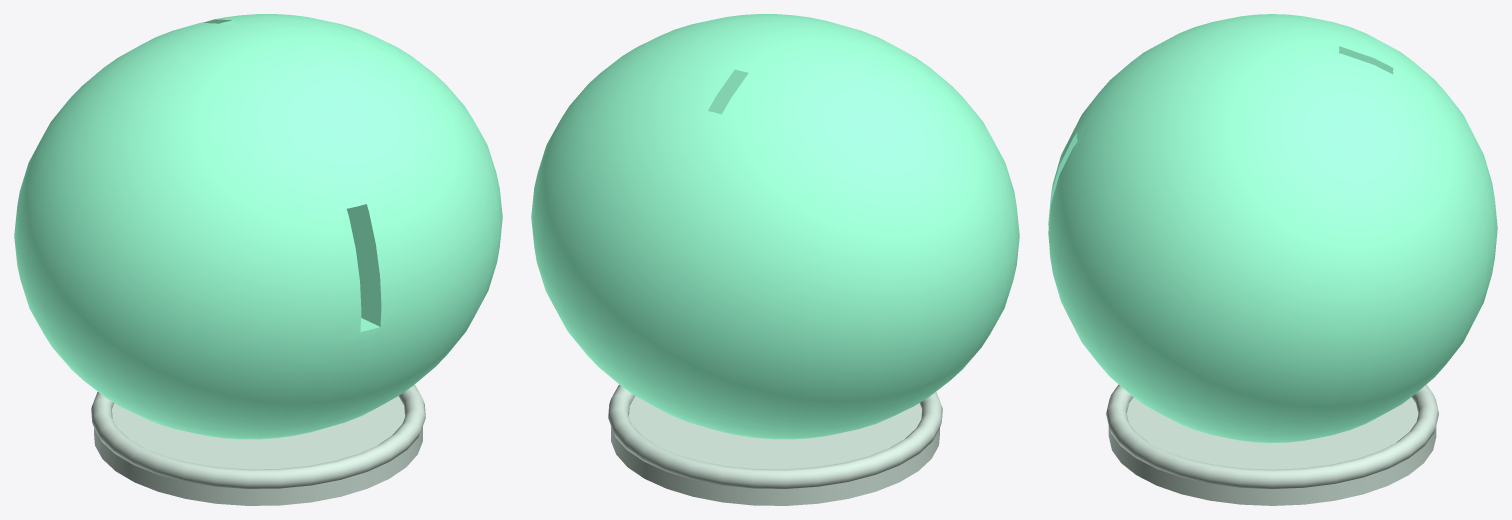
Rendered from muyu-jade.glb.
The picture shows the model from 3 angles, left to right: view 1: azimuth 30°, elevation 25°; view 2: azimuth 150°, elevation 25°; view 3: azimuth 270°, elevation 25°; orthographic projection.
Parts seen in each view (by area): view 1: MuyuBody, MuyuBase, MuyuRim; view 2: MuyuBody, MuyuBase, MuyuRim; view 3: MuyuBody, MuyuBase, MuyuRim.
Part boxes in pixels (box(x1,y1,x2,y2)): MuyuBody: box(14, 14, 502, 439); MuyuBase: box(94, 396, 422, 505); MuyuRim: box(91, 384, 425, 488); MuyuBody: box(531, 14, 1019, 439); MuyuBase: box(611, 396, 939, 505); MuyuRim: box(608, 384, 942, 488); MuyuBody: box(1048, 14, 1497, 442); MuyuBase: box(1108, 397, 1436, 505); MuyuRim: box(1106, 384, 1438, 488).
Bounding box in the file's own units: 2.16 × 1.9 × 1.96.
